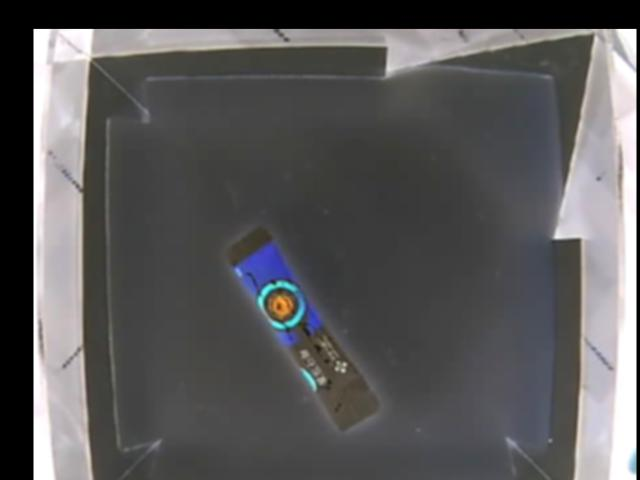Medicine: (224, 224, 381, 428)
